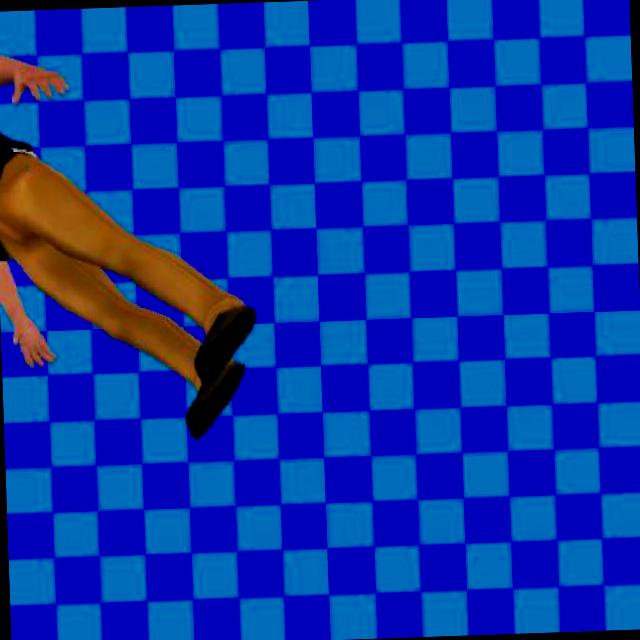Person: (0, 40, 263, 449)
